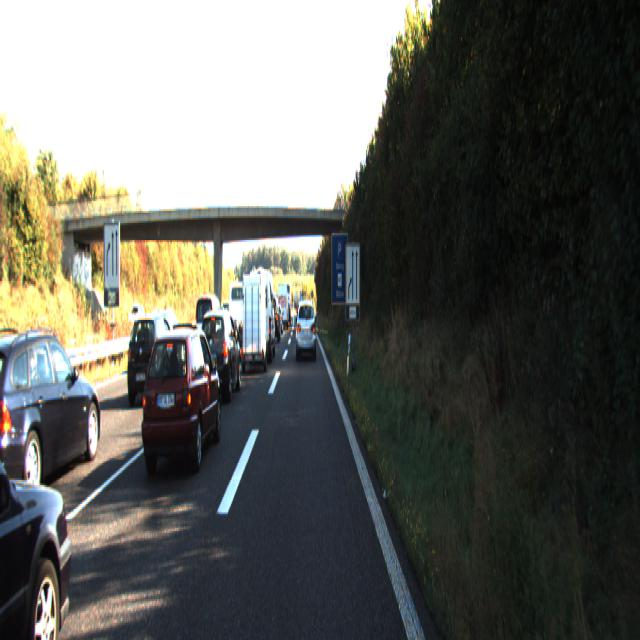Car: (0, 348, 86, 638), (0, 326, 104, 517), (140, 325, 224, 480), (126, 312, 182, 406), (196, 306, 242, 404), (0, 311, 22, 458), (238, 270, 268, 372), (246, 266, 276, 362), (295, 297, 316, 358), (264, 295, 282, 343), (277, 283, 289, 328)
